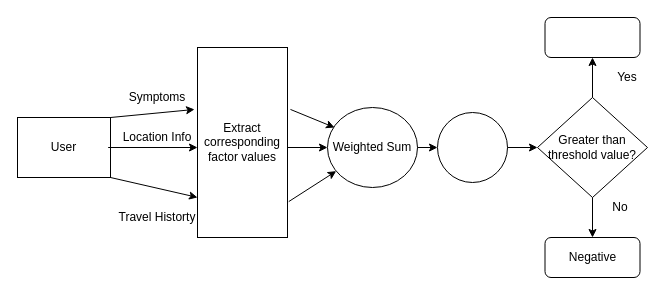
Some shapes in this 665 by 303 pixel diagram are drawn without their labels. Here are the shapes that lost their labels. From the top down, the box of each, then its label:
(544, 16, 640, 58): Positive
(436, 112, 508, 182): Sigmoid filter
